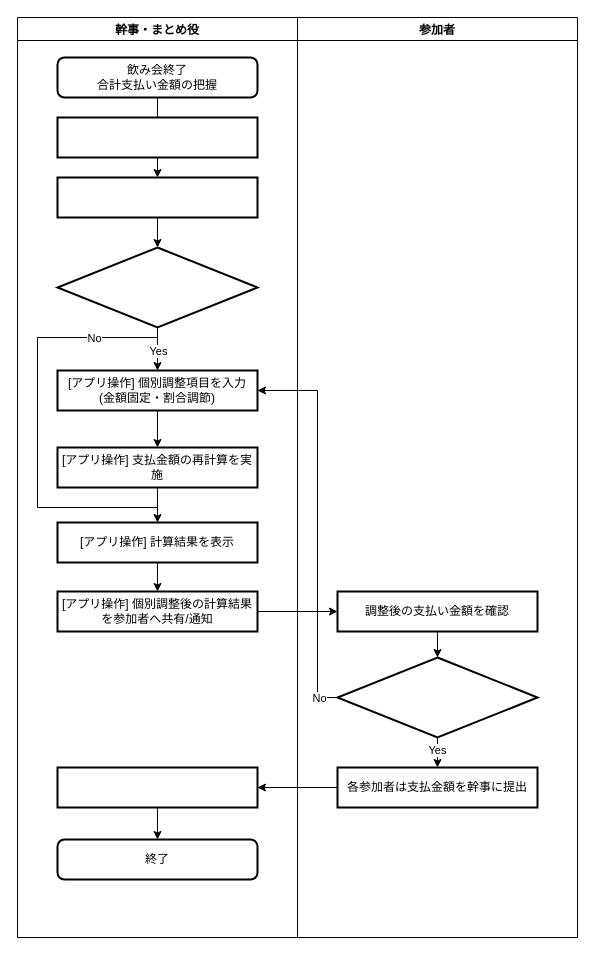
Some shapes in this 595 by 955 pixel diagram are drawn without their labels. Each missing label, with the centre of its shape:
[アプリ操作] グループ を作成: (x=157, y=137)
[アプリ操作] グループ名・参加人数・支払金額を入力: (x=157, y=197)
お店に支払い: (x=157, y=787)
各参加者が支払い金額に 納得: (x=437, y=697)
支払い量の調整が必要な 参加者がいる: (x=157, y=287)
